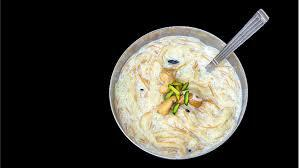kheer: (100, 22, 278, 161)
